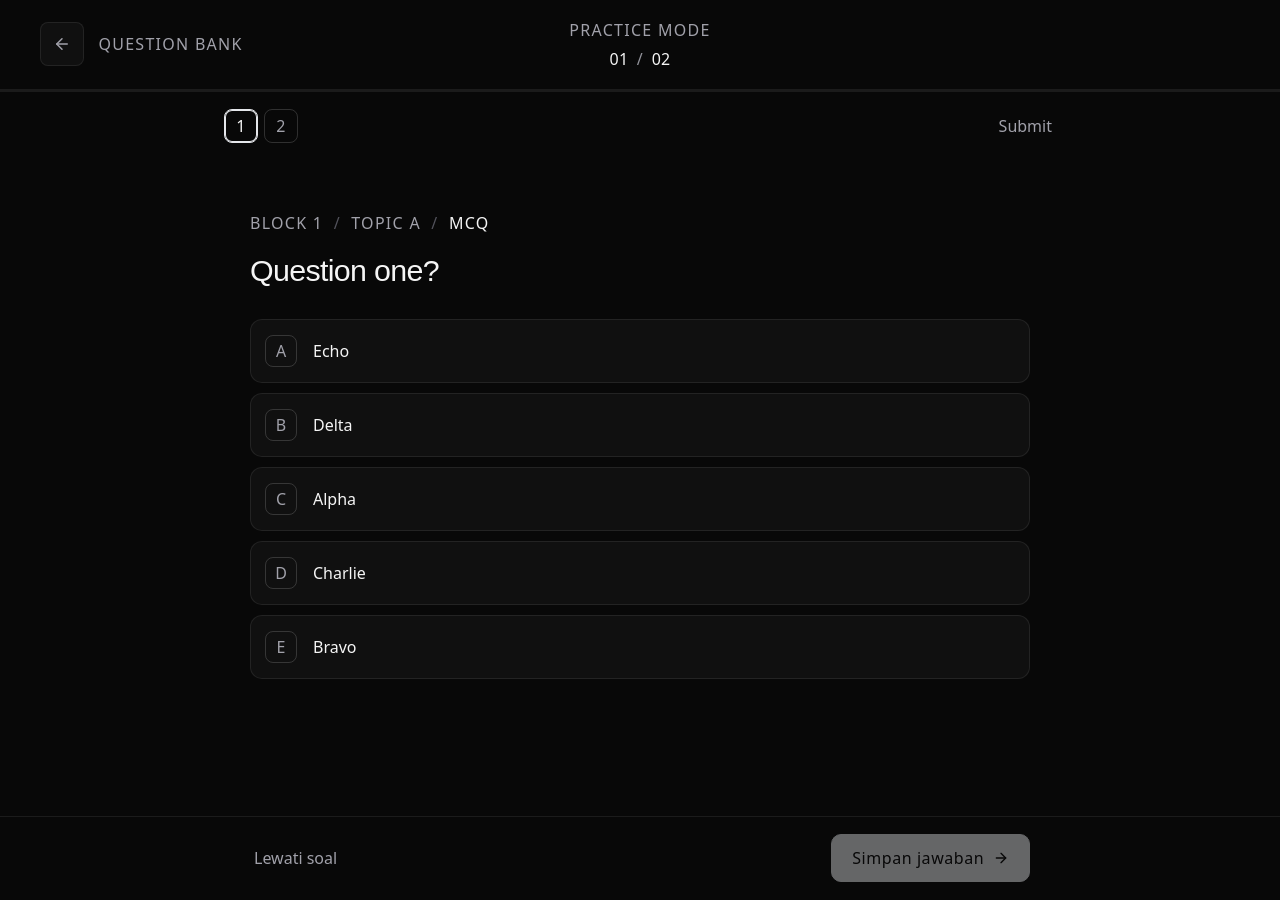
Scenario: standalone Academic Practice page › warns before finishing with unanswered questions and counts them on the result
Expected: the heading "Question one?" is shown, [250,253,439,287]
Click the button "Submit" at (1025, 126), box [995,104,1056,148]
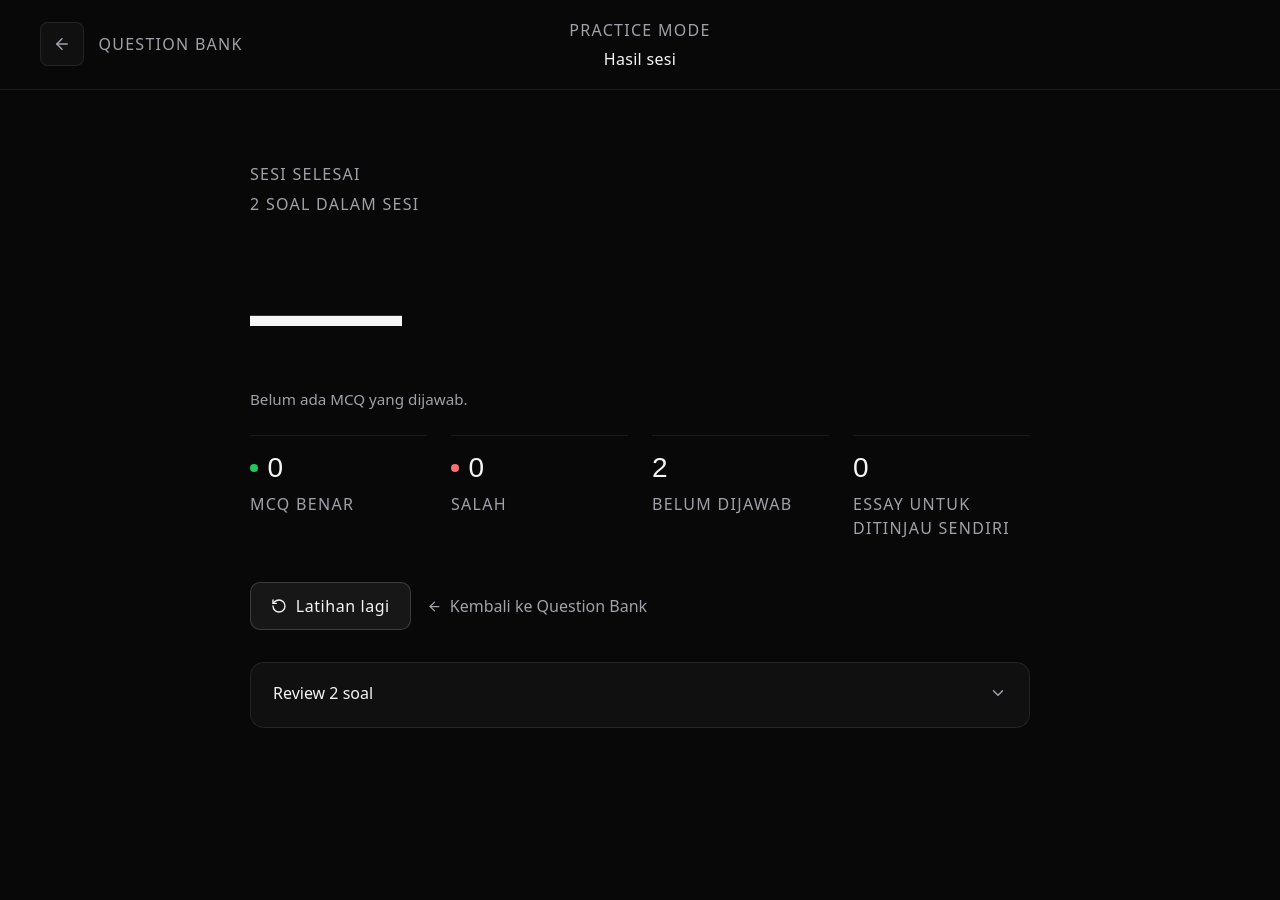
Now the text "SESI SELESAI" is shown, box [250,163,361,185]
